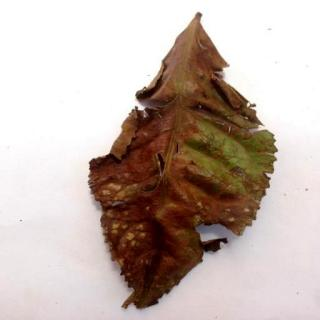Algal Leaf: (88, 13, 278, 310)
